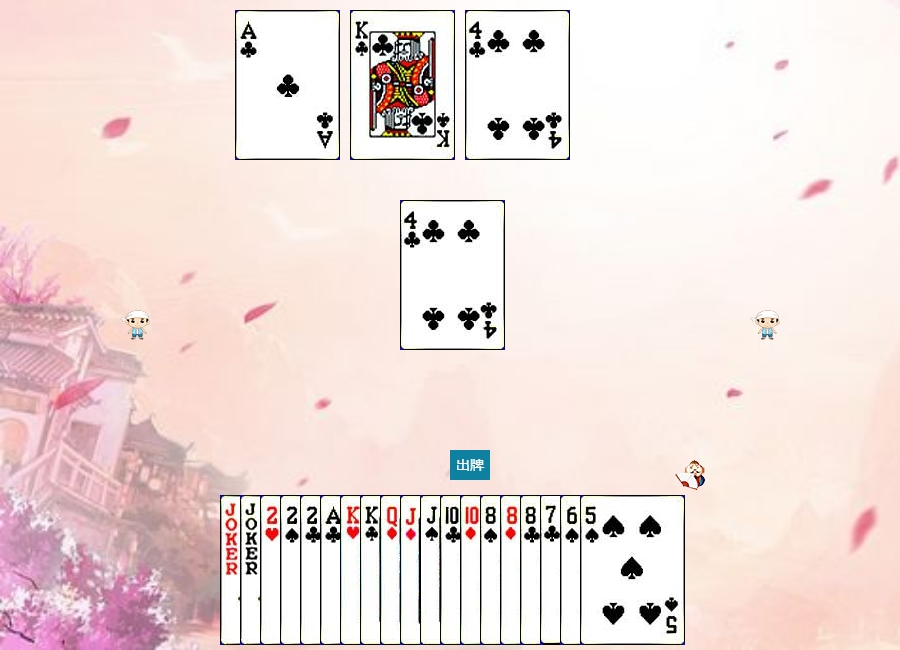10~1: (460, 495, 565, 645)
10~2: (440, 495, 545, 645)
11~1: (400, 495, 505, 645)
11~4: (420, 495, 525, 645)
12~1: (380, 495, 485, 645)
13~2: (350, 10, 455, 160), (360, 495, 465, 645)
13~3: (340, 495, 445, 645)
14~2: (235, 10, 340, 160), (320, 495, 425, 645)
15~2: (300, 495, 405, 645)
15~3: (260, 495, 365, 645)
15~4: (280, 495, 385, 645)
17~3: (240, 495, 345, 645)
18~4: (220, 495, 325, 645)
4~2: (465, 10, 570, 160), (400, 200, 505, 350)
5~4: (580, 495, 685, 645)
6~4: (560, 495, 665, 645)
7~2: (540, 495, 645, 645)
8~1: (500, 495, 605, 645)
8~2: (520, 495, 625, 645)
8~4: (480, 495, 585, 645)
